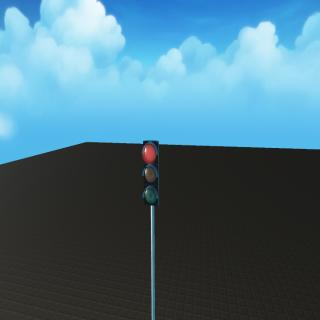sinalRed: (141, 138, 162, 214)
